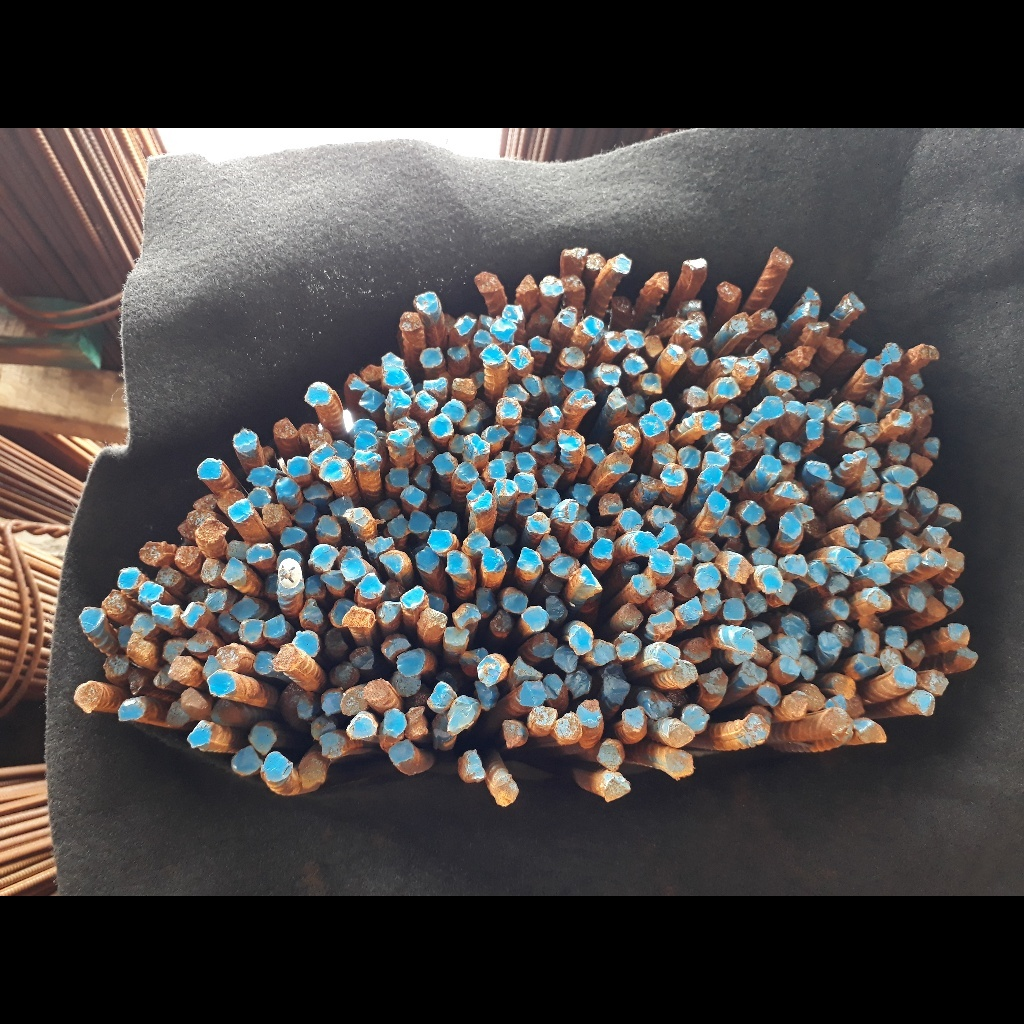dipstick: (448, 694, 481, 733), (167, 654, 203, 687), (570, 564, 603, 597), (553, 712, 585, 744), (261, 753, 294, 784), (73, 680, 103, 713), (194, 518, 229, 544), (229, 747, 262, 774), (126, 632, 155, 662), (727, 553, 755, 584), (272, 643, 300, 674), (527, 631, 559, 658), (355, 572, 387, 599), (427, 684, 457, 712), (180, 688, 208, 718), (474, 679, 500, 711), (600, 776, 633, 801), (564, 668, 592, 697), (500, 719, 528, 748), (309, 545, 339, 572), (488, 609, 514, 640), (347, 713, 378, 739), (321, 571, 352, 597), (212, 698, 239, 727), (98, 587, 127, 614), (461, 750, 484, 784), (586, 638, 616, 664), (505, 343, 535, 369), (493, 776, 519, 806), (392, 671, 422, 697), (512, 657, 543, 682), (396, 650, 427, 675), (833, 548, 860, 576), (700, 667, 728, 694), (522, 604, 550, 631), (461, 648, 488, 676), (340, 607, 376, 628), (249, 727, 277, 754), (293, 631, 320, 659), (694, 564, 723, 590), (415, 546, 441, 575), (341, 688, 370, 714), (746, 714, 770, 745), (576, 699, 603, 726), (475, 269, 502, 296), (529, 707, 556, 734), (329, 598, 356, 625), (137, 541, 164, 568), (678, 598, 704, 626), (666, 752, 694, 778), (299, 759, 327, 785), (185, 627, 213, 653), (857, 717, 886, 742), (644, 694, 673, 719), (604, 679, 629, 708), (296, 689, 318, 721), (740, 659, 767, 685), (685, 637, 712, 663), (682, 706, 709, 732), (615, 633, 642, 659), (319, 731, 345, 758), (615, 423, 640, 451), (518, 679, 546, 704), (299, 603, 324, 631), (208, 673, 236, 698), (554, 644, 578, 673), (452, 604, 481, 628), (231, 598, 260, 622), (490, 319, 521, 341), (397, 586, 428, 608), (598, 491, 624, 517), (320, 458, 346, 484), (238, 619, 264, 645), (103, 652, 129, 678), (855, 628, 880, 655), (656, 643, 681, 670), (478, 655, 503, 682), (383, 633, 410, 658), (406, 709, 427, 741), (217, 644, 241, 672), (880, 339, 905, 365), (673, 661, 698, 687), (597, 743, 622, 769), (443, 626, 469, 651), (349, 646, 375, 671), (325, 629, 350, 655), (166, 700, 192, 725), (853, 652, 880, 676), (539, 463, 566, 487), (551, 552, 578, 576), (188, 720, 212, 747), (569, 626, 592, 654), (545, 593, 568, 621), (382, 708, 405, 736), (420, 609, 448, 632), (357, 389, 385, 412), (277, 570, 305, 593), (247, 465, 275, 488), (217, 489, 245, 512), (114, 700, 146, 720), (152, 663, 173, 693), (652, 440, 677, 465), (651, 609, 676, 634), (427, 528, 452, 553), (221, 558, 246, 583), (830, 400, 854, 426), (482, 424, 506, 450), (444, 550, 470, 574), (784, 691, 807, 718), (388, 741, 415, 764), (364, 681, 391, 704), (77, 606, 104, 629), (150, 599, 181, 619), (887, 440, 915, 462), (496, 399, 524, 421), (924, 670, 949, 694), (802, 684, 826, 709), (778, 512, 802, 537), (759, 396, 784, 420), (758, 683, 782, 708), (655, 523, 680, 547), (572, 482, 597, 506), (316, 517, 341, 541), (819, 630, 842, 656), (807, 561, 830, 587), (784, 554, 810, 577), (640, 414, 666, 437), (648, 588, 674, 611), (427, 415, 453, 438), (196, 458, 222, 481), (181, 603, 207, 626), (669, 726, 696, 748), (291, 503, 318, 525), (227, 500, 254, 522), (246, 543, 273, 565), (432, 714, 453, 742), (770, 247, 794, 271), (885, 625, 909, 649), (833, 672, 857, 696), (742, 500, 766, 524), (745, 591, 769, 615), (734, 628, 758, 652), (649, 552, 673, 576), (538, 534, 562, 558), (452, 376, 476, 400), (419, 346, 443, 370), (260, 502, 284, 526), (909, 393, 934, 416), (910, 450, 933, 475), (947, 620, 970, 645), (880, 647, 903, 672), (722, 599, 747, 622), (716, 280, 741, 303), (620, 603, 643, 628), (913, 689, 935, 715), (857, 465, 879, 491), (783, 614, 809, 636), (746, 525, 772, 547), (716, 376, 742, 398), (479, 344, 505, 366), (414, 391, 440, 413), (163, 639, 189, 661), (399, 487, 426, 508), (340, 559, 367, 580), (843, 291, 867, 314), (868, 588, 892, 611), (867, 561, 891, 584), (828, 597, 852, 620), (750, 642, 773, 666), (661, 463, 685, 486), (640, 371, 663, 395), (482, 549, 506, 572), (455, 460, 479, 483), (199, 559, 222, 583), (131, 612, 155, 635), (622, 708, 647, 730), (559, 429, 584, 451), (518, 547, 540, 572), (407, 511, 432, 533), (431, 453, 456, 475), (386, 467, 411, 489), (311, 716, 336, 738), (273, 418, 298, 440), (892, 465, 918, 486), (638, 475, 664, 496), (607, 451, 633, 472), (534, 487, 560, 508), (452, 315, 478, 336), (281, 525, 307, 546), (650, 506, 677, 526), (376, 602, 403, 622), (115, 568, 142, 588), (916, 485, 939, 508), (719, 515, 742, 538), (619, 509, 642, 532), (264, 615, 287, 638), (206, 588, 229, 611), (859, 516, 881, 540), (832, 621, 854, 645), (825, 708, 847, 732), (730, 312, 754, 334), (678, 445, 700, 469), (580, 315, 604, 337), (517, 276, 539, 300), (538, 404, 562, 426), (465, 434, 489, 456), (466, 529, 490, 551), (414, 436, 438, 458), (217, 612, 241, 634), (174, 545, 198, 567), (893, 665, 918, 686), (827, 573, 852, 594), (543, 373, 564, 398), (505, 382, 530, 403), (555, 500, 580, 521), (543, 673, 564, 698), (379, 553, 404, 574), (375, 499, 400, 520), (329, 496, 354, 517), (254, 650, 275, 675), (155, 566, 180, 587), (702, 588, 720, 617), (924, 526, 950, 546), (693, 540, 719, 560), (622, 355, 648, 375), (564, 247, 590, 267), (523, 372, 543, 398), (426, 489, 452, 509), (567, 390, 594, 409), (943, 546, 965, 569), (842, 426, 864, 449), (843, 448, 866, 470), (781, 635, 803, 658), (776, 581, 798, 604), (513, 472, 536, 494), (388, 515, 410, 538), (416, 292, 438, 315), (387, 388, 410, 410), (410, 465, 432, 488), (289, 456, 312, 478), (226, 540, 249, 562), (942, 585, 966, 606), (864, 540, 888, 561), (676, 576, 700, 597), (633, 573, 657, 594), (515, 450, 536, 474), (442, 399, 466, 420), (321, 691, 342, 715), (233, 429, 257, 450), (791, 345, 816, 365), (808, 461, 834, 480), (752, 547, 778, 566), (334, 667, 360, 686), (203, 655, 222, 681), (843, 522, 861, 549), (721, 470, 743, 492), (542, 572, 564, 594), (882, 484, 905, 505), (798, 657, 819, 680), (758, 455, 781, 476), (761, 567, 782, 590), (562, 370, 585, 391), (447, 433, 468, 456), (474, 587, 495, 610), (954, 646, 978, 666), (905, 638, 925, 662), (854, 403, 878, 423), (651, 399, 675, 419), (560, 275, 584, 295), (527, 514, 551, 534), (383, 367, 407, 387), (346, 506, 370, 526), (367, 536, 395, 553), (570, 521, 595, 540), (137, 582, 162, 601), (777, 482, 803, 500), (393, 416, 419, 434), (889, 406, 910, 428), (794, 502, 815, 524), (806, 515, 828, 536), (605, 331, 627, 352), (557, 306, 578, 328), (592, 538, 613, 560), (400, 312, 422, 333), (821, 334, 844, 354), (861, 357, 884, 377), (858, 421, 881, 441), (778, 656, 801, 676), (707, 491, 730, 511), (495, 524, 518, 544), (515, 496, 538, 516), (493, 477, 516, 497), (503, 594, 530, 611), (422, 377, 449, 394), (353, 451, 380, 468), (938, 502, 962, 521), (304, 483, 328, 502), (907, 586, 925, 611), (652, 272, 670, 297), (352, 418, 377, 436), (193, 493, 218, 511), (898, 508, 919, 529), (687, 386, 708, 407), (645, 335, 666, 356), (624, 328, 645, 349), (917, 342, 939, 362), (927, 596, 947, 618), (899, 530, 921, 550), (756, 308, 778, 328), (716, 355, 738, 375), (664, 344, 686, 364), (625, 394, 647, 414), (807, 318, 830, 337), (541, 277, 564, 296), (515, 426, 538, 445), (496, 450, 515, 473), (310, 431, 333, 450), (858, 612, 882, 630), (599, 662, 623, 680), (468, 493, 495, 509), (277, 550, 301, 568), (806, 400, 827, 420), (760, 334, 781, 354), (700, 409, 720, 430), (600, 363, 621, 383), (586, 443, 606, 464), (426, 592, 447, 612), (799, 289, 821, 308), (751, 620, 773, 639), (607, 387, 626, 409), (636, 533, 658, 552), (614, 254, 633, 276), (435, 511, 457, 530), (355, 433, 377, 452), (248, 488, 270, 507), (847, 496, 865, 519), (701, 466, 724, 484), (458, 411, 481, 429), (360, 364, 383, 382), (128, 672, 146, 695), (922, 549, 946, 566), (863, 490, 880, 514), (532, 436, 556, 453), (882, 376, 902, 396), (800, 372, 821, 391), (724, 403, 743, 424), (447, 342, 469, 360), (779, 444, 803, 460), (338, 546, 362, 562), (846, 697, 866, 716), (565, 346, 584, 366), (504, 303, 523, 323), (296, 425, 316, 444), (334, 439, 353, 459), (804, 418, 822, 439), (776, 372, 797, 390), (689, 348, 710, 366), (825, 694, 847, 711), (784, 398, 806, 415), (530, 335, 552, 352), (115, 626, 131, 649), (713, 433, 732, 452), (586, 253, 605, 272), (684, 257, 708, 272), (622, 562, 642, 580), (265, 575, 280, 599), (751, 347, 772, 364), (742, 434, 763, 451), (672, 543, 693, 560), (846, 339, 868, 355), (924, 434, 940, 456), (825, 482, 847, 498), (387, 431, 416, 443), (864, 446, 879, 469), (381, 353, 404, 368), (901, 550, 919, 569), (466, 483, 486, 500), (347, 376, 367, 393), (706, 451, 730, 465), (917, 582, 939, 597), (797, 632, 815, 650), (684, 324, 703, 341), (613, 297, 632, 314), (186, 584, 205, 601), (761, 434, 776, 455), (803, 301, 821, 318), (473, 328, 492, 344), (680, 300, 701, 314), (916, 415, 932, 433), (725, 537, 744, 552), (471, 370, 486, 389), (837, 725, 852, 743), (498, 545, 513, 563), (688, 310, 707, 324), (909, 373, 924, 388), (479, 313, 493, 327)
